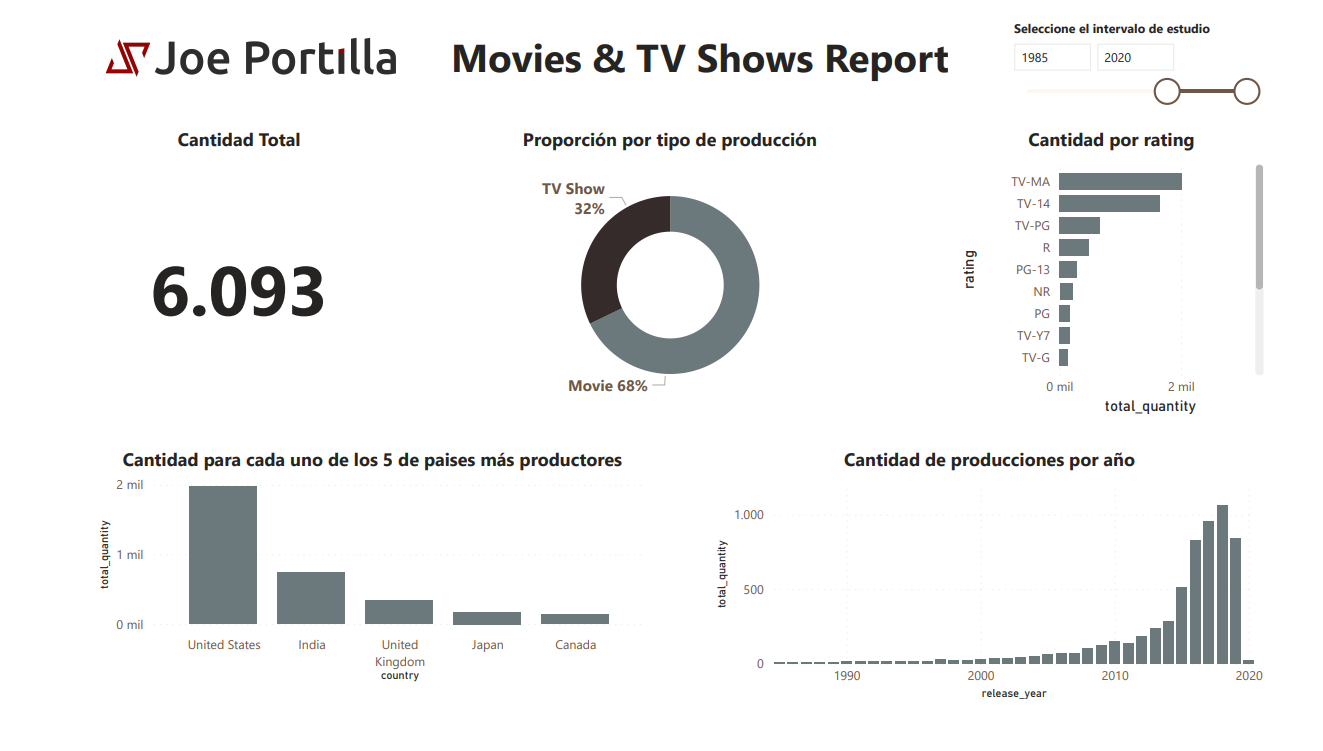

The page's visual inventory and layout, read from the dashboard file:
{"tool":"powerbi","page":{"name":"Dashboard","canvas":[1280,720],"ordinal":0},"visuals":[{"type":"card","title":"Cantidad Total","fields":{"Values":["netflix_titles.total_quantity"]},"box":[91.6,118.4,280.4,281.8],"z":0},{"type":"donutChart","title":"Proporción por tipo de producción","fields":{"Y":["netflix_titles.total_quantity"],"Category":["netflix_titles.type"]},"box":[496,118.4,301.5,281.8],"z":1000},{"type":"barChart","title":"Cantidad por rating","fields":{"Category":["netflix_titles.rating"],"Y":["netflix_titles.total_quantity"]},"box":[921.5,118.4,301.5,281.8],"z":2000},{"type":"columnChart","title":"Cantidad para cada uno de los 5 de paises más productores","fields":{"Category":["netflix_titles.country"],"Y":["netflix_titles.total_quantity"]},"box":[91.6,425.5,536.8,231.1],"z":3000},{"type":"columnChart","title":"Cantidad de producciones por año","fields":{"Category":["netflix_titles.release_year"],"Y":["netflix_titles.total_quantity"]},"box":[686.2,425.5,536.8,248],"z":4000},{"type":"slicer","fields":{"Values":["netflix_titles.release_year"]},"box":[965.2,9.9,257.8,102.9],"z":5000},{"type":"textbox","box":[431.2,19.7,510.1,62],"z":6000},{"type":"image","box":[91.6,19.7,300.1,63.4],"z":7000}]}

Visuals, with their boxes in screenshot pixels (x1, y1, x2, y2), scaled from the page's 1280x720 canvas onto the 1323x751 screenshot:
"Cantidad Total" card: detection(95, 123, 384, 417)
"Proporción por tipo de producción" donutChart: detection(513, 123, 824, 417)
"Cantidad por rating" barChart: detection(952, 123, 1264, 417)
"Cantidad para cada uno de los 5 de paises más productores" columnChart: detection(95, 444, 650, 685)
"Cantidad de producciones por año" columnChart: detection(709, 444, 1264, 702)
slicer - netflix_titles.release_year: detection(998, 10, 1264, 118)
textbox: detection(446, 21, 973, 85)
image: detection(95, 21, 405, 87)
